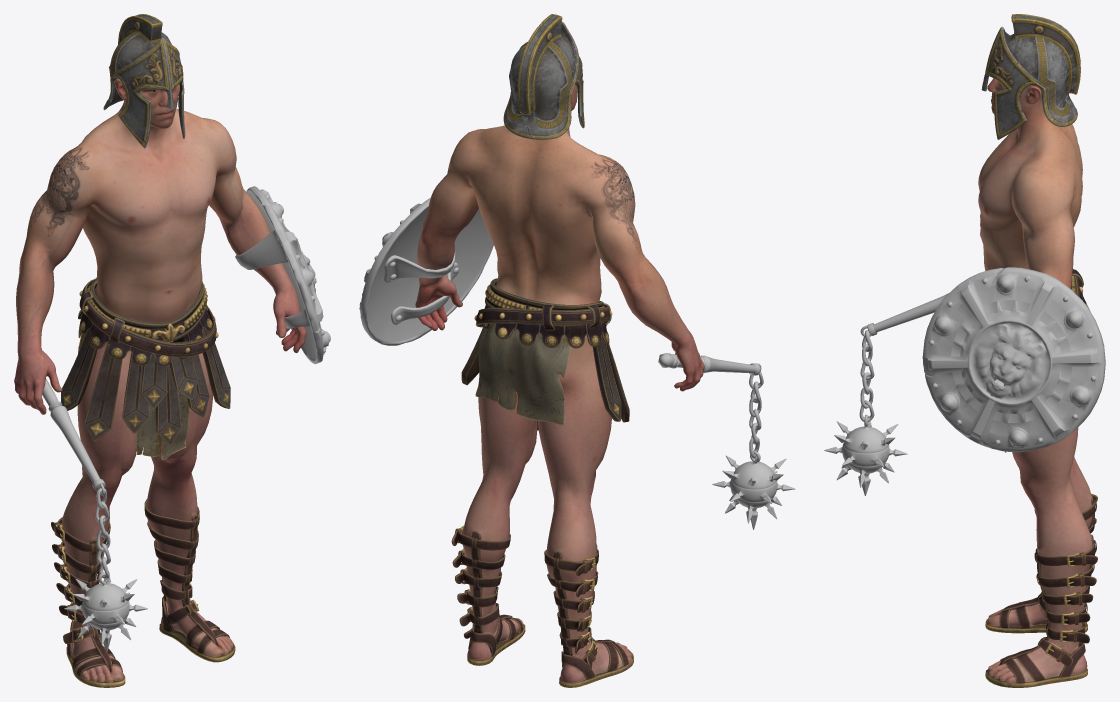
The picture shows the model from 3 angles, left to right: view 1: azimuth 30°, elevation 25°; view 2: azimuth 150°, elevation 25°; view 3: azimuth 270°, elevation 25°; orthographic projection.
Visible parts, largest first — view 1: Gladiator_3.001, Gladiator_weapon_2.001; view 2: Gladiator_3.001, Gladiator_weapon_2.001; view 3: Gladiator_3.001, Gladiator_weapon_2.001.
Boxes of the visible parts, x1,y1,x2,y2 form: Gladiator_3.001: (14,14,306,687); Gladiator_weapon_2.001: (42,186,330,652); Gladiator_3.001: (415,14,704,687); Gladiator_weapon_2.001: (359,197,795,529); Gladiator_3.001: (978,14,1097,687); Gladiator_weapon_2.001: (824,267,1105,495).
Bounding box in the file's own units: 1.07 × 2.03 × 0.8152.
Materials: 2 (1 with a texture image).
